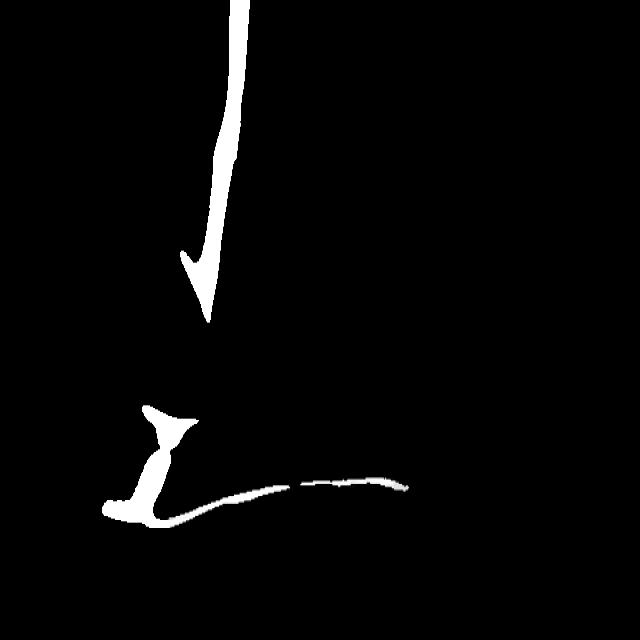sup: (284, 474, 310, 496)
